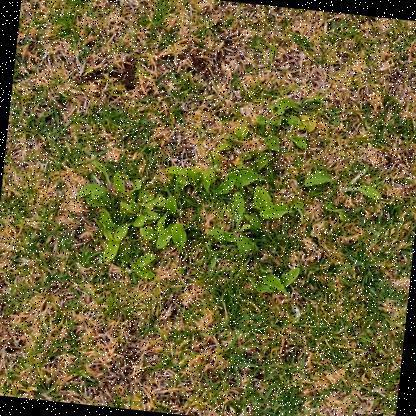Weeds: (68, 76, 390, 304)
